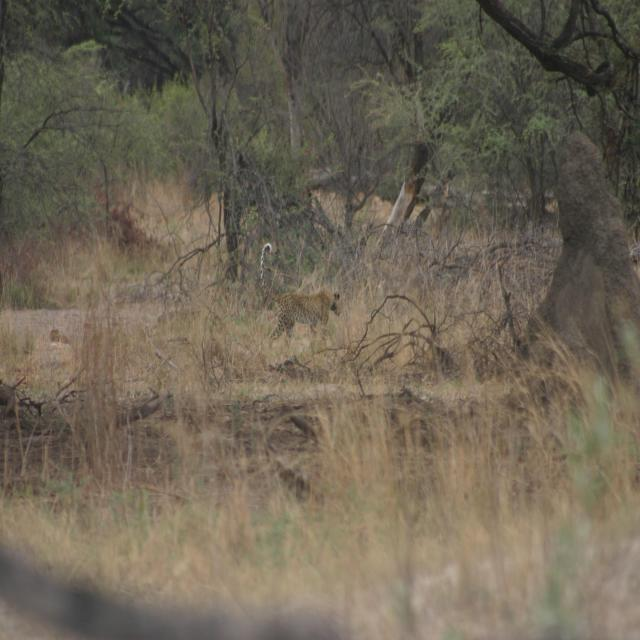Leopard: (257, 236, 345, 353)
